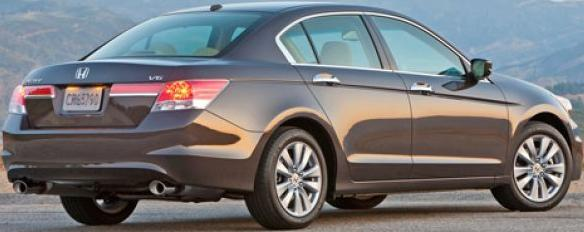back_view: (10, 75, 253, 203)
backlight: (147, 78, 229, 139)
side_glass: (283, 13, 487, 90)
